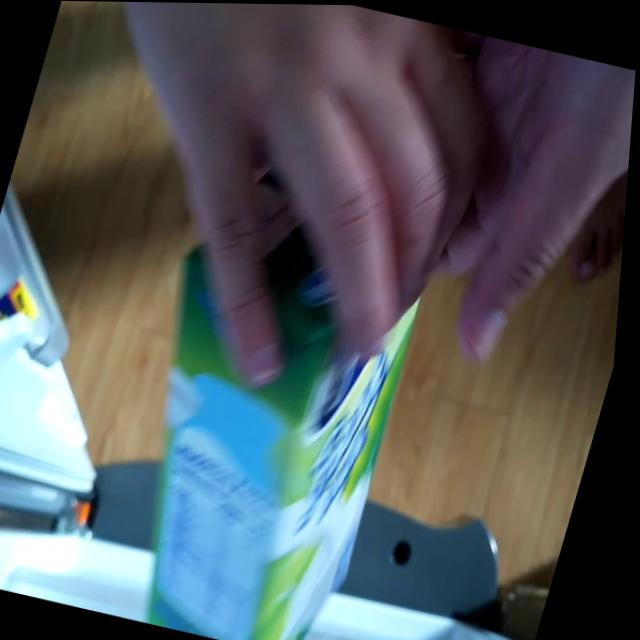milk: (88, 121, 470, 640)
